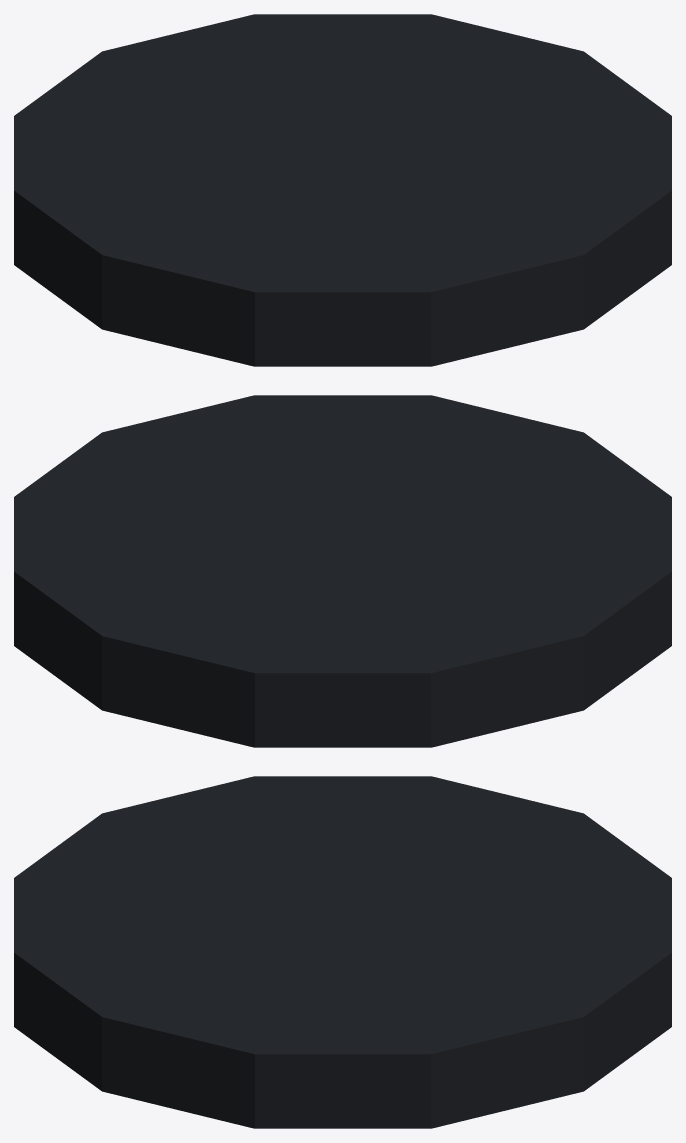
Rendered from Arena Circle Base.fbx.
The picture shows the model from 3 angles, top to bottom: view 1: azimuth 30°, elevation 25°; view 2: azimuth 150°, elevation 25°; view 3: azimuth 270°, elevation 25°; orthographic projection.
Parts seen in each view (by area): view 1: cylinder; view 2: cylinder; view 3: cylinder.
Boxes of the visible parts, x1,y1,x2,y2 form: cylinder: (14,14,671,366); cylinder: (14,395,671,747); cylinder: (14,776,671,1128).
Size of the model in its own units: 100 by 12.5 by 100.
Materials: 1 (1 with a texture image).
